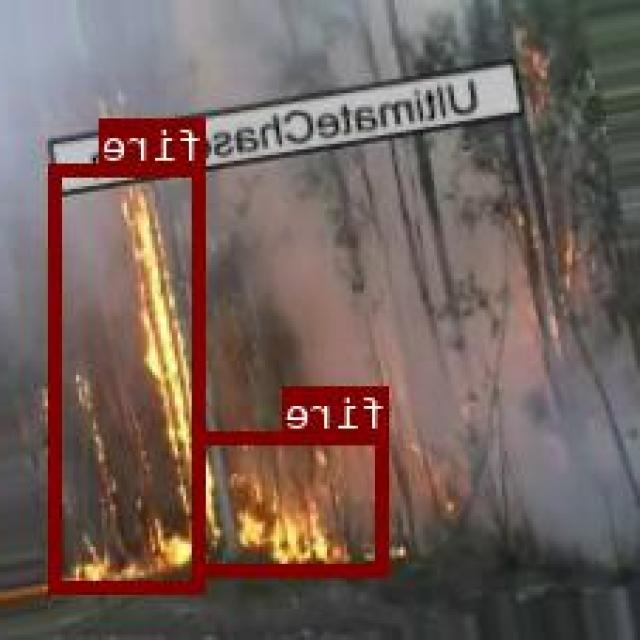fire: (52, 162, 208, 590), (197, 431, 389, 573)
